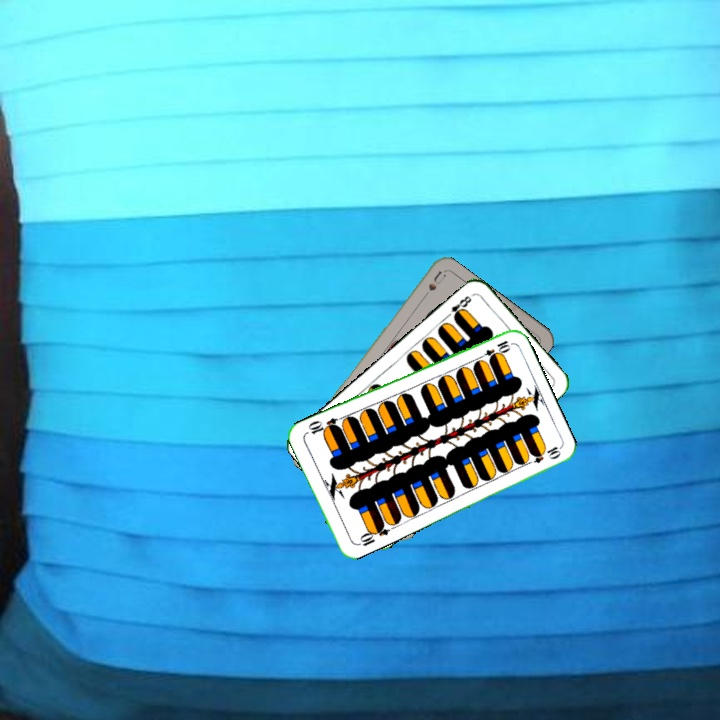E10: (352, 519, 391, 549), (474, 336, 513, 364)
E8: (442, 292, 474, 323)
SU: (417, 267, 448, 304)
